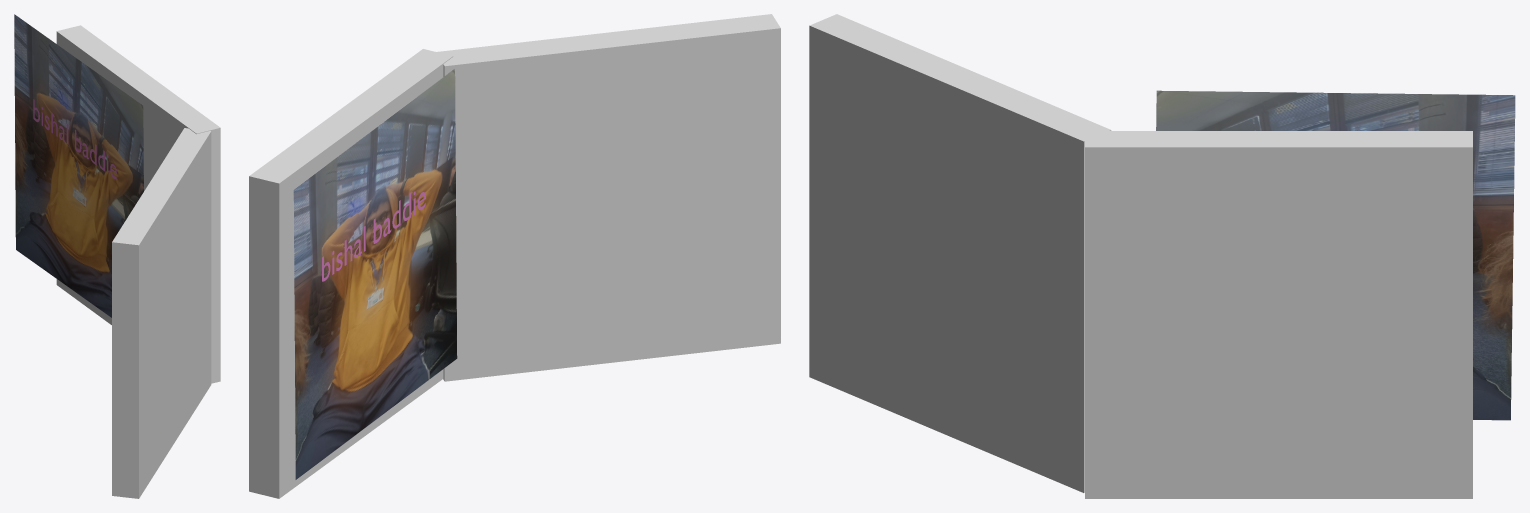
File: aswas.glb
3 renders of one model, left to right at view 1: azimuth 30°, elevation 25°; view 2: azimuth 150°, elevation 25°; view 3: azimuth 270°, elevation 25°, orthographic. The views are drawn at different scales.
Visible parts, largest first — view 1: Cube.001, Plane, Cube, Text; view 2: Cube.001, Plane, Cube, Text; view 3: Cube, Cube.001, Plane.
Part boxes in pixels (x1,y1,x2,y2): Cube.001: [112, 128, 211, 498]; Plane: [14, 14, 143, 317]; Cube: [56, 25, 220, 383]; Text: [33, 99, 116, 179]; Cube.001: [437, 14, 780, 381]; Plane: [293, 69, 457, 479]; Cube: [249, 49, 453, 498]; Text: [322, 191, 425, 281]; Cube: [1085, 131, 1472, 498]; Cube.001: [809, 14, 1111, 492]; Plane: [1156, 90, 1515, 420].
Bounding box in the file's own units: 1.64 × 2.13 × 3.64.
Materials: 3 (1 with a texture image).
